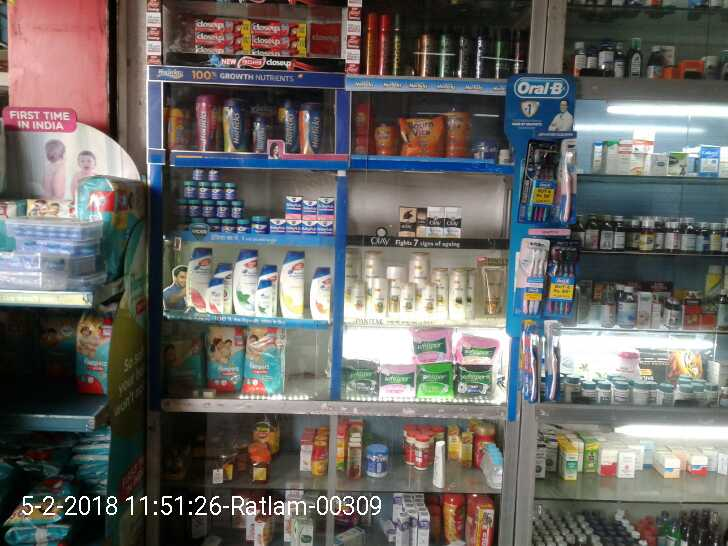beauty: (282, 247, 308, 323), (228, 245, 257, 313), (477, 257, 507, 321), (181, 245, 207, 307), (307, 268, 335, 321), (452, 266, 472, 320), (394, 202, 417, 240), (367, 274, 387, 316), (418, 287, 437, 322), (441, 210, 463, 239), (423, 205, 442, 237), (208, 280, 223, 318), (258, 282, 273, 318), (396, 283, 412, 315), (415, 209, 427, 243), (113, 209, 114, 212)
pharmacy: (240, 330, 290, 397), (75, 308, 110, 397), (523, 141, 554, 226), (545, 243, 578, 320), (205, 325, 244, 389), (164, 341, 200, 397), (519, 246, 543, 318), (559, 146, 582, 221), (544, 330, 564, 404), (454, 364, 495, 400), (380, 366, 416, 406), (413, 329, 455, 362), (415, 365, 452, 400), (524, 335, 541, 402), (457, 334, 499, 361), (344, 370, 376, 403), (316, 192, 335, 221), (285, 192, 300, 220), (247, 211, 266, 233), (300, 200, 318, 223), (227, 196, 242, 217), (180, 178, 194, 197), (200, 198, 213, 218), (268, 217, 284, 233), (196, 180, 208, 200), (214, 200, 229, 216), (205, 164, 217, 183), (222, 179, 235, 196), (288, 220, 301, 236), (185, 203, 200, 216), (317, 221, 332, 234), (207, 185, 220, 198), (191, 166, 203, 180), (301, 220, 312, 234)
